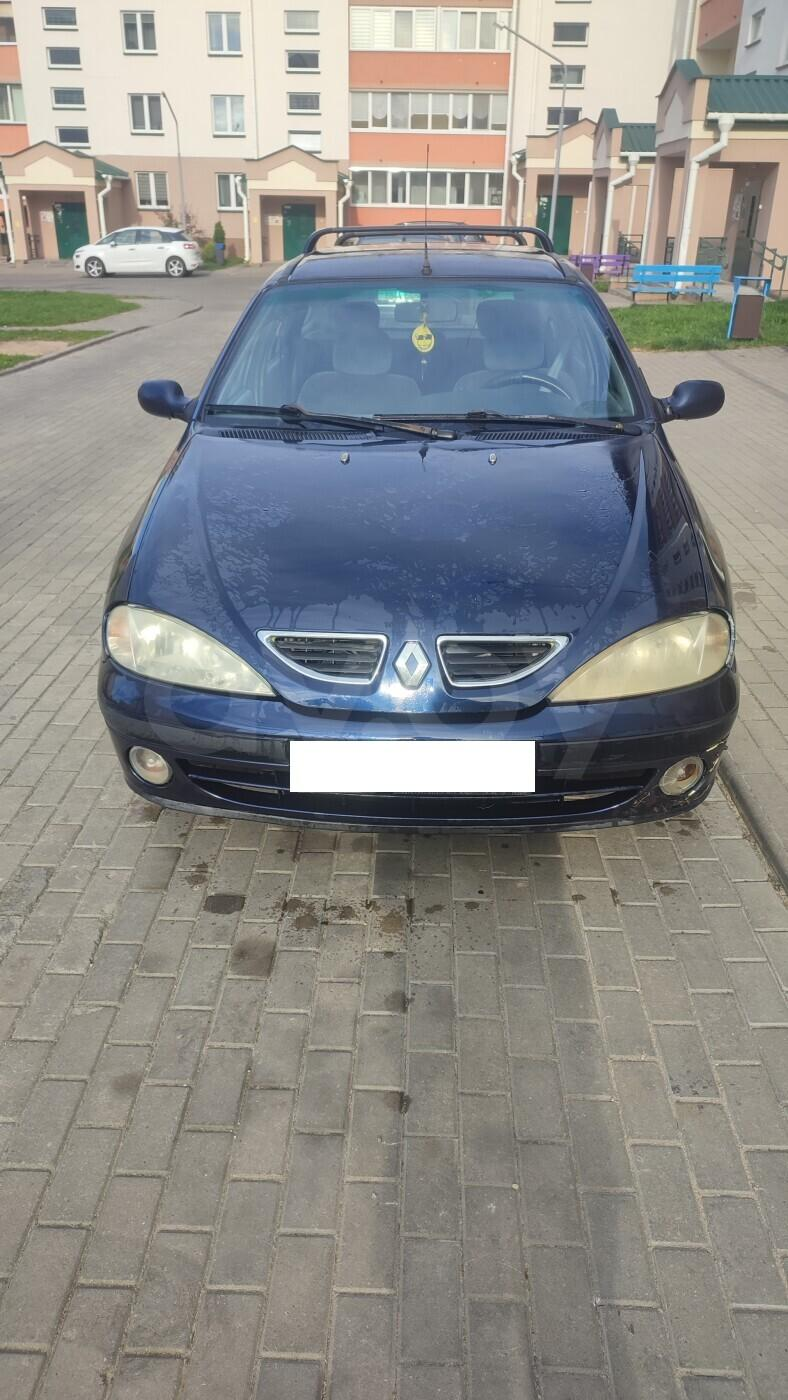Megane_1999-2003: (94, 244, 744, 836)
